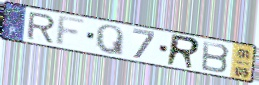7: (131, 27, 158, 61)
B: (200, 40, 232, 75)
F: (53, 14, 89, 49)
Q: (95, 24, 126, 58)
R: (164, 33, 202, 71), (25, 11, 57, 44)
